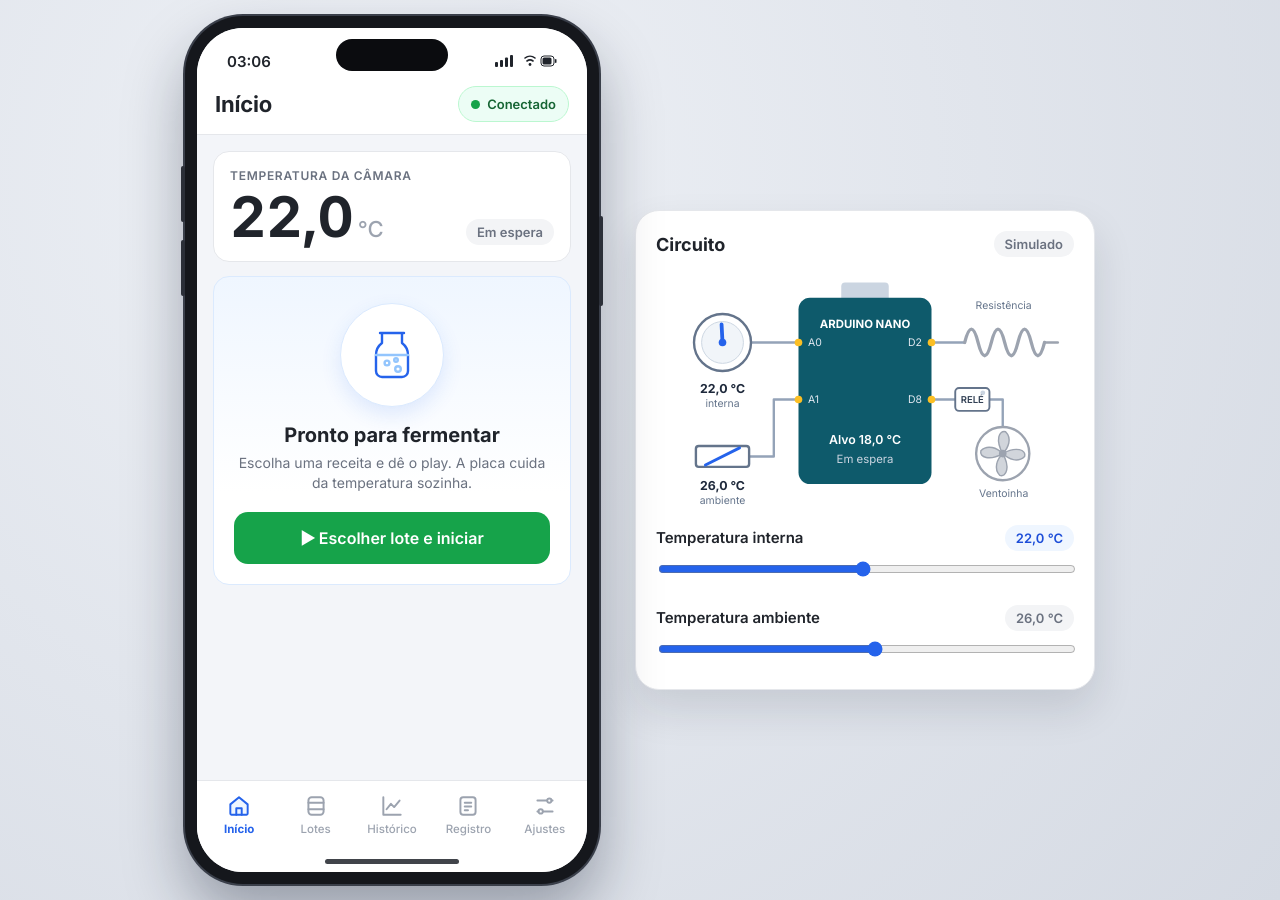
Test: App › Modo dev (circuito ao lado do celular) › no computador, o Modo dev liga e desliga o circuito pelo interruptor em Ajustes
This screenshot has width=1280, height=900.
Expected: the element labelled "Circuito Simulado" is shown, 635,210 -> 1095,690
Click the button "Ajustes". click: (545, 814)
box: 507,787 -> 583,842
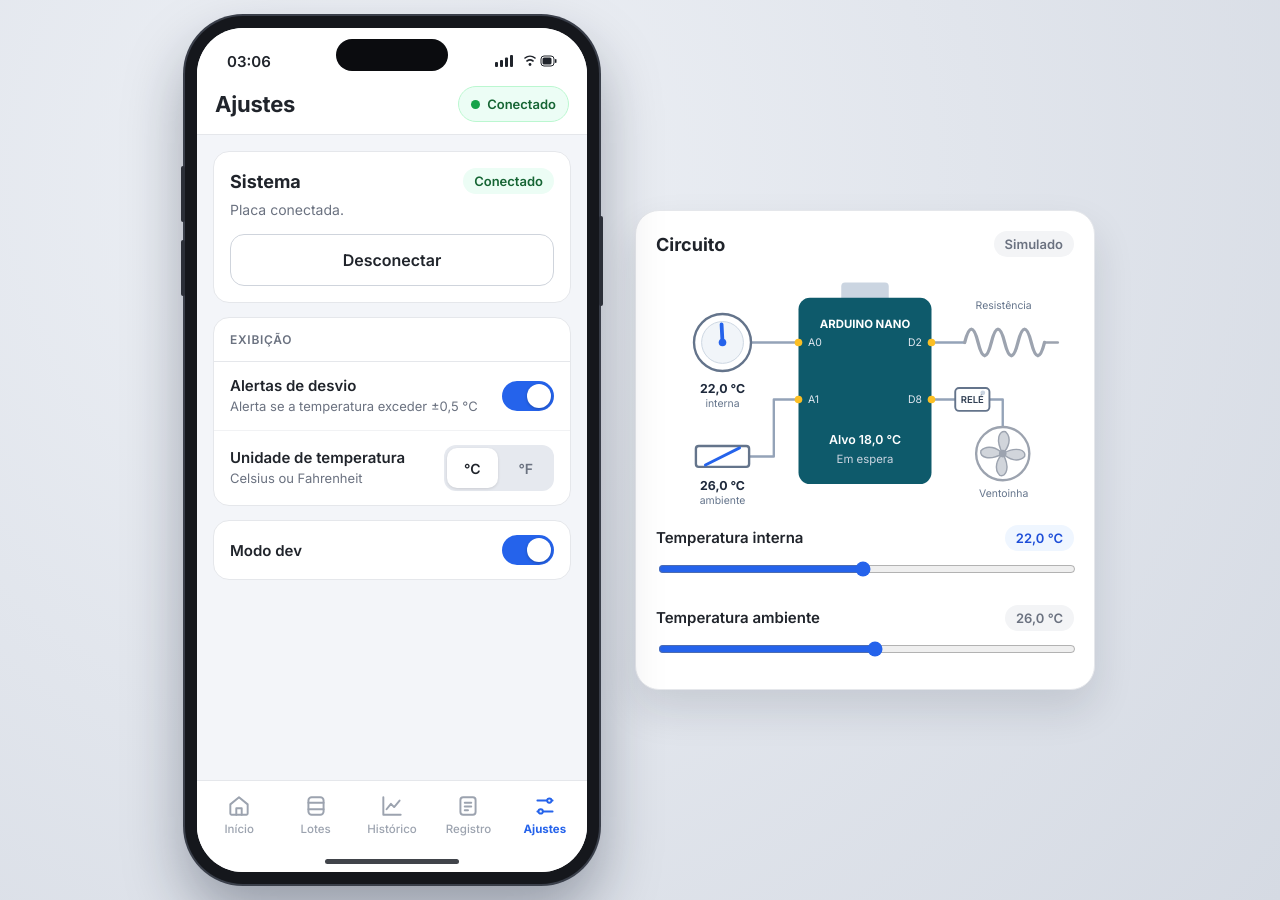
Click the switch named "Modo dev". click: (528, 550)
box: 502,535 -> 554,565
Wait 200 ms
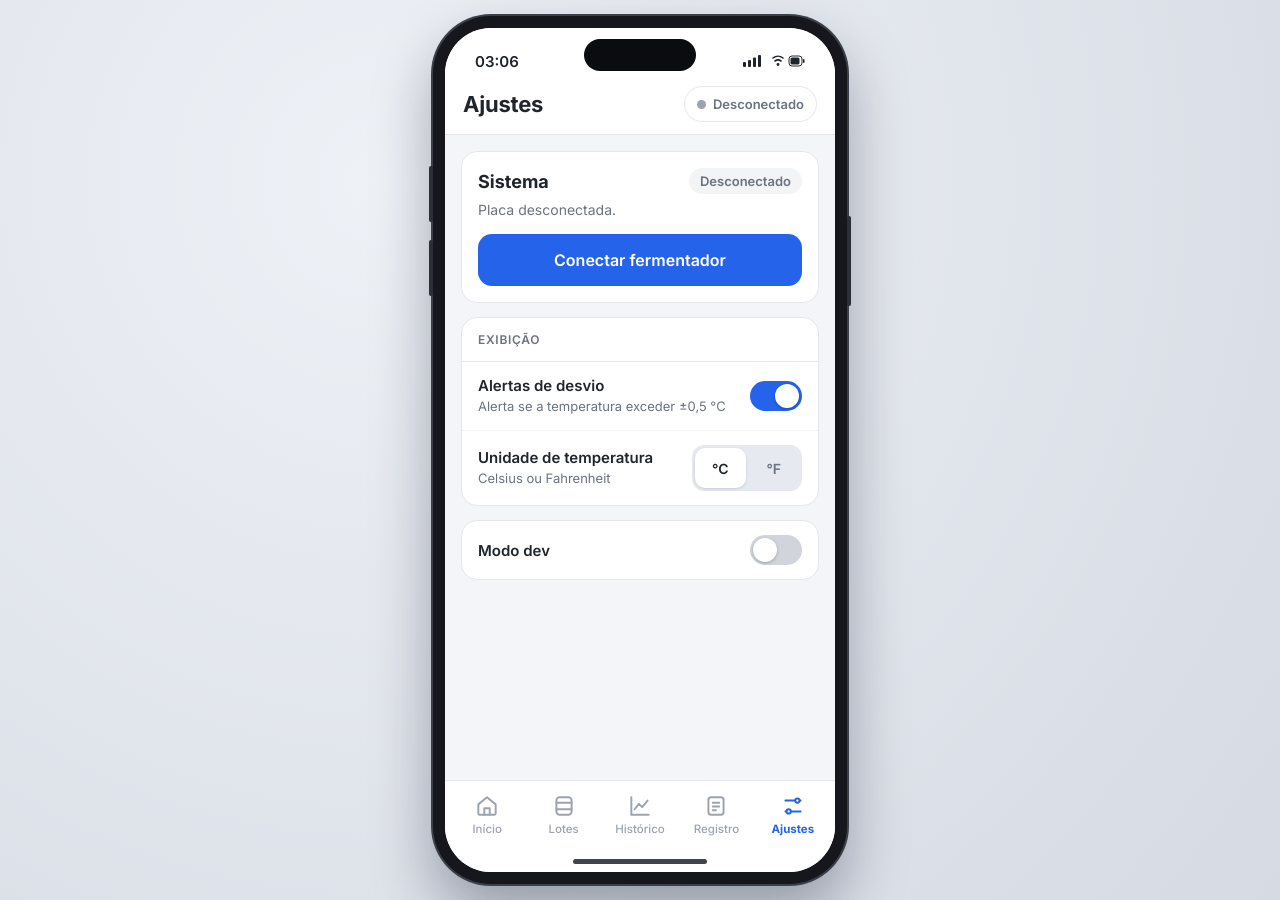
Expected: the field labelled "Circuito Simulado" is gone
Click the switch named "Modo dev". click: (776, 550)
box: 750,535 -> 802,565
Wait 2500 ms
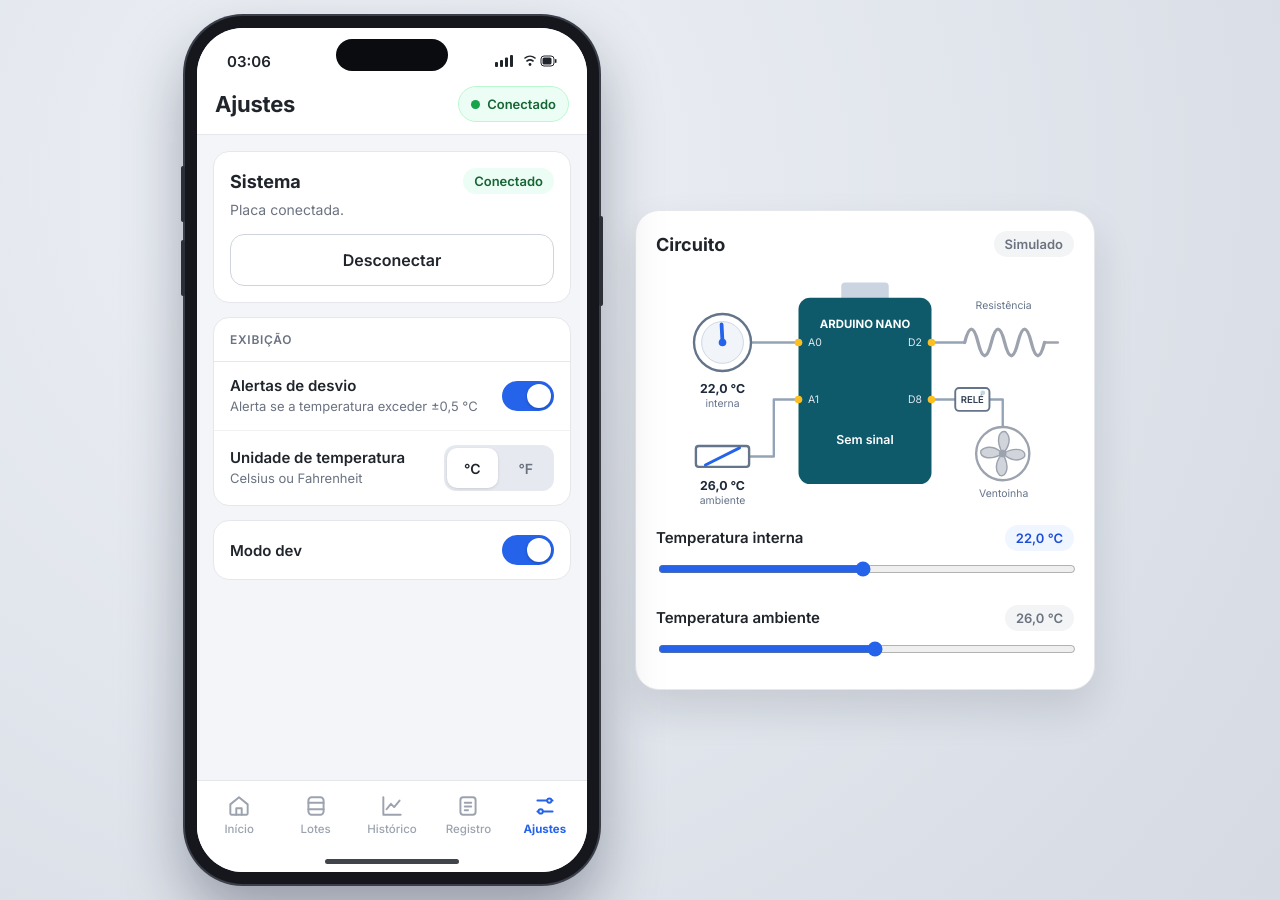
Expected: the button "Conectado" is shown, 458,86 -> 569,122
Expected: the element labelled "Circuito Simulado" is shown, 635,210 -> 1095,690
